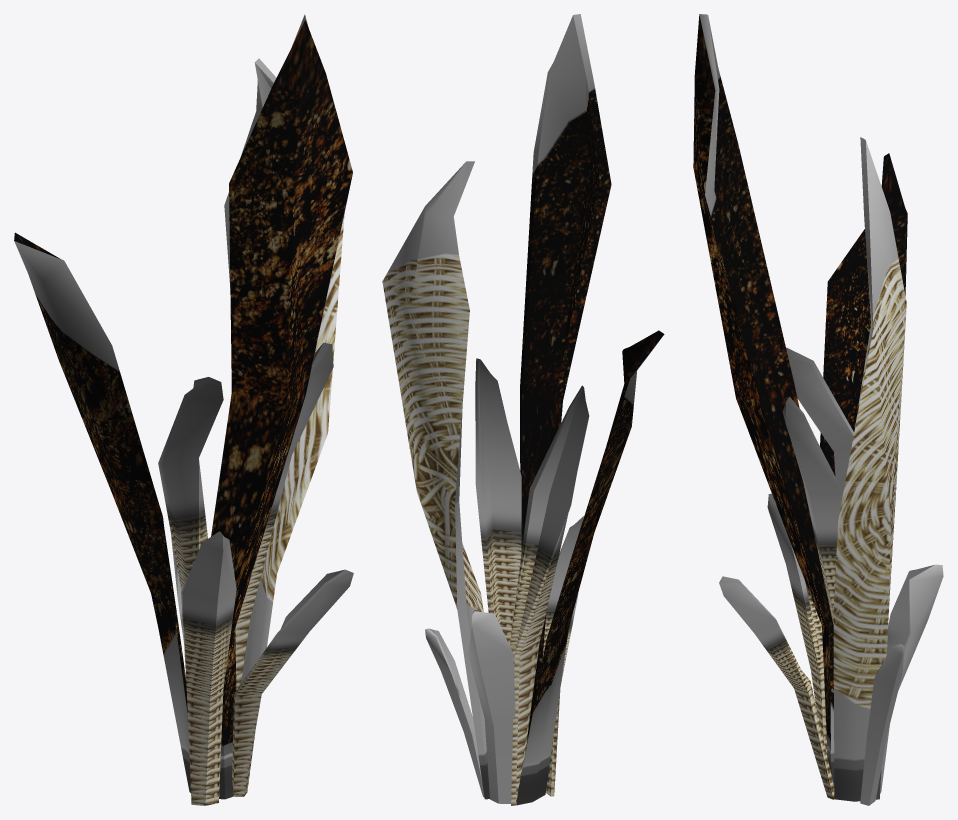
3 renders of one model, left to right at view 1: azimuth 30°, elevation 25°; view 2: azimuth 150°, elevation 25°; view 3: azimuth 270°, elevation 25°, orthographic. The views are drawn at different scales.
Visible parts, largest first — view 1: _Plant_6_1; view 2: _Plant_6_1; view 3: _Plant_6_1.
Part boxes in pixels (x1,y1,x2,y2): _Plant_6_1: (14,14,353,805); _Plant_6_1: (382,14,664,805); _Plant_6_1: (693,14,943,805).
Bounding box in the file's own units: 378 × 924 × 266.
